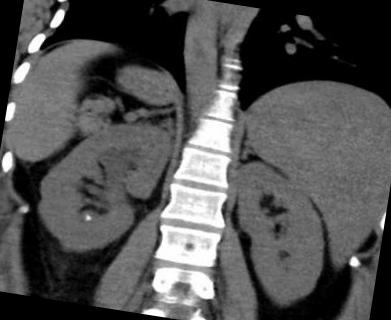Tas_Var: (82, 212, 92, 224)
